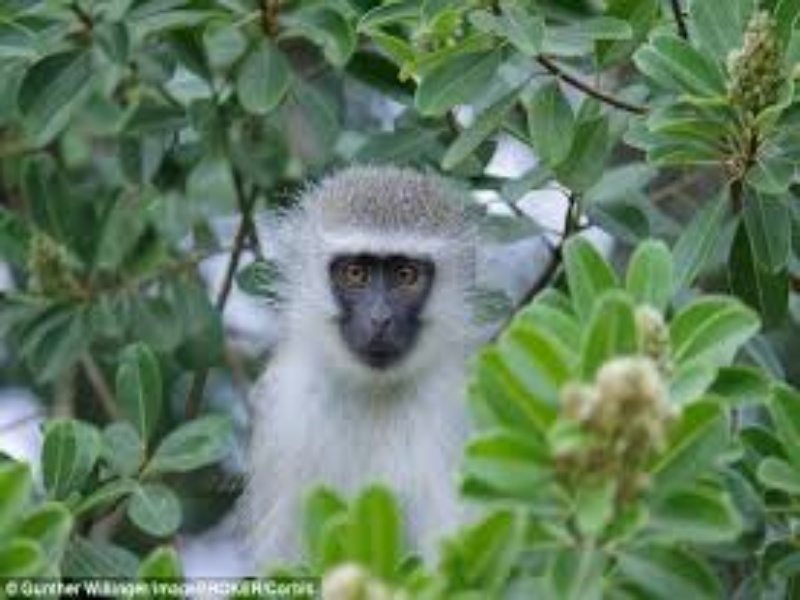monkey: (217, 159, 513, 582)
